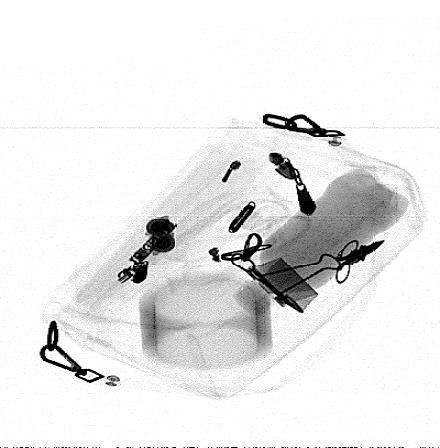Scissors: (335, 239, 385, 283)
